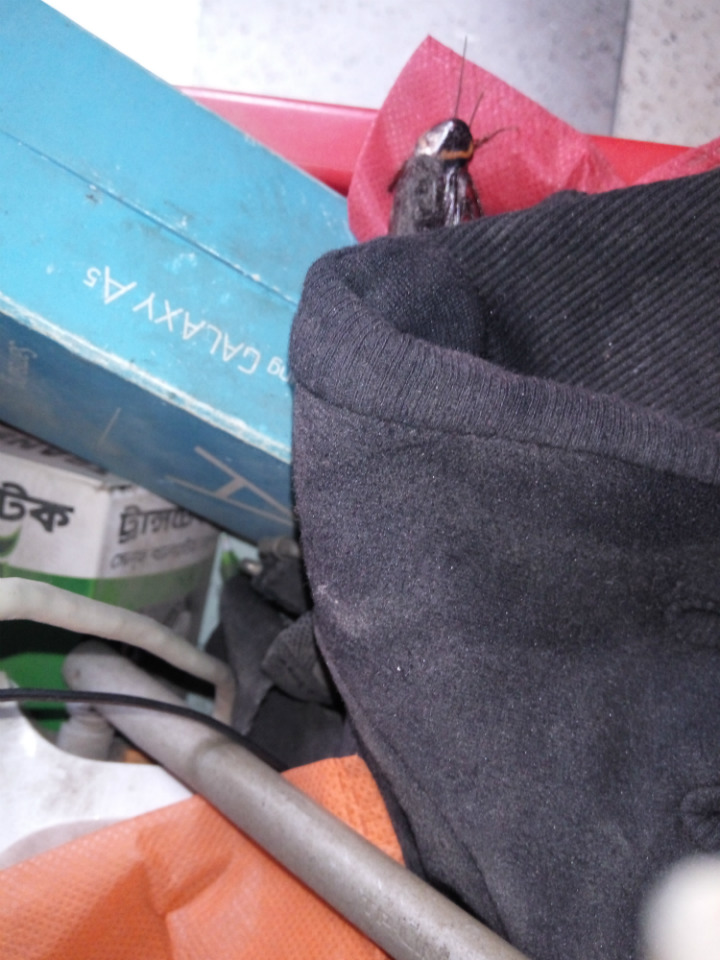cockroach: (303, 90, 573, 230)
